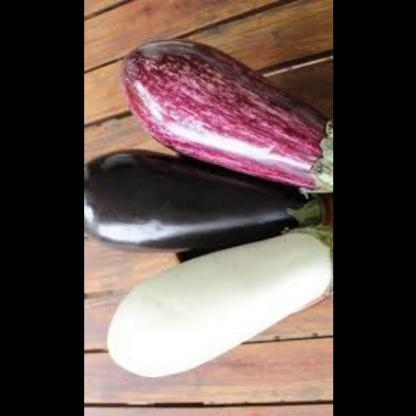eggplant: (97, 22, 331, 176), (83, 136, 332, 236), (83, 248, 332, 342)
